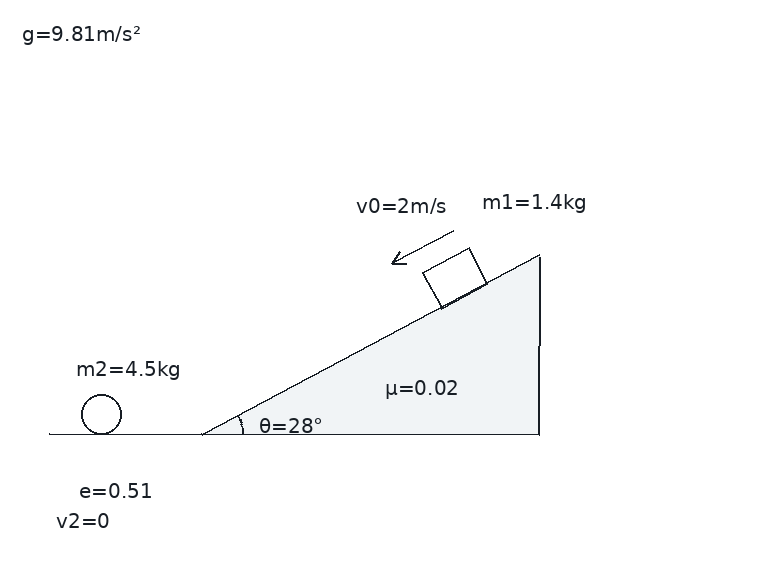ball: (79, 392, 123, 436)
block: (420, 246, 490, 310)
ramp: (201, 253, 541, 436)
